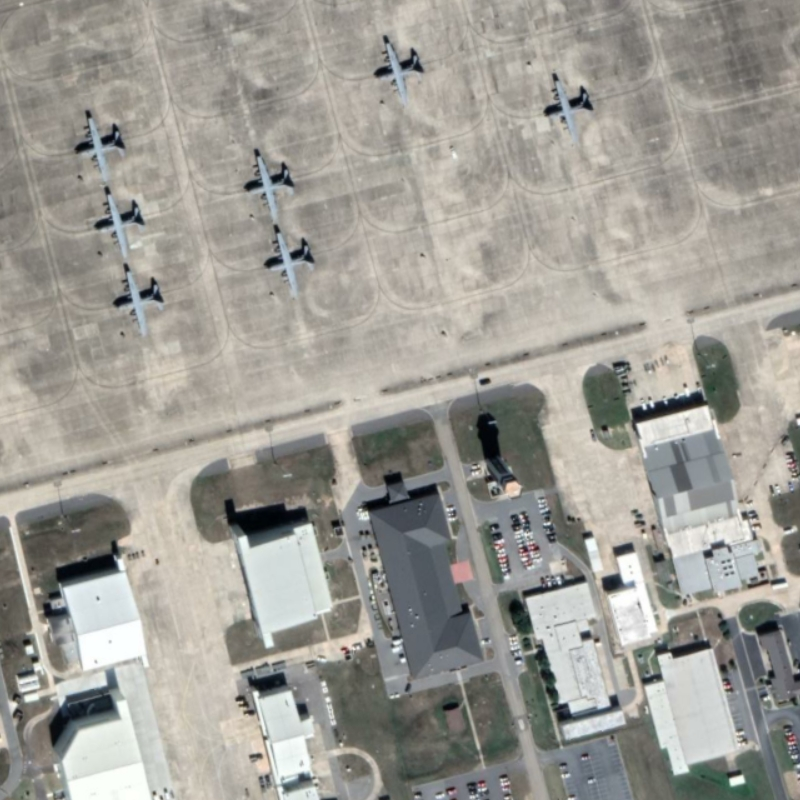A2: (111, 263, 168, 342), (541, 72, 598, 149), (260, 228, 320, 301), (71, 112, 131, 185), (92, 188, 150, 259), (244, 152, 299, 224), (374, 38, 427, 108)
